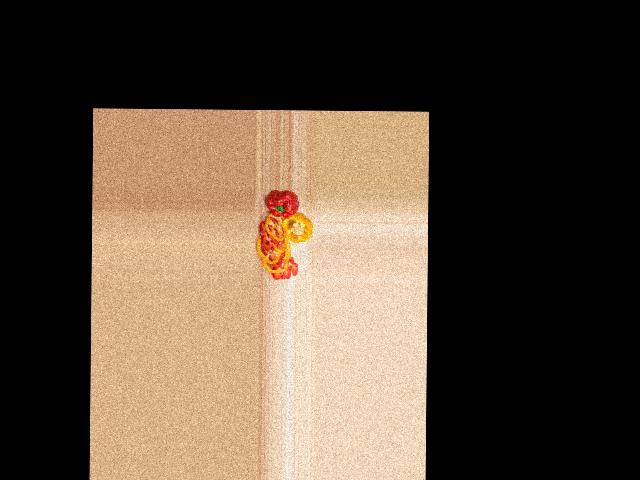bell_pepper: (282, 213, 314, 244)
